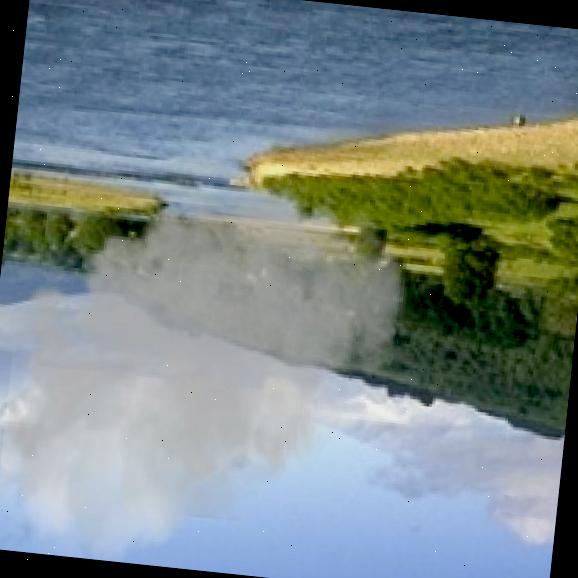smoke: (0, 142, 426, 578)
